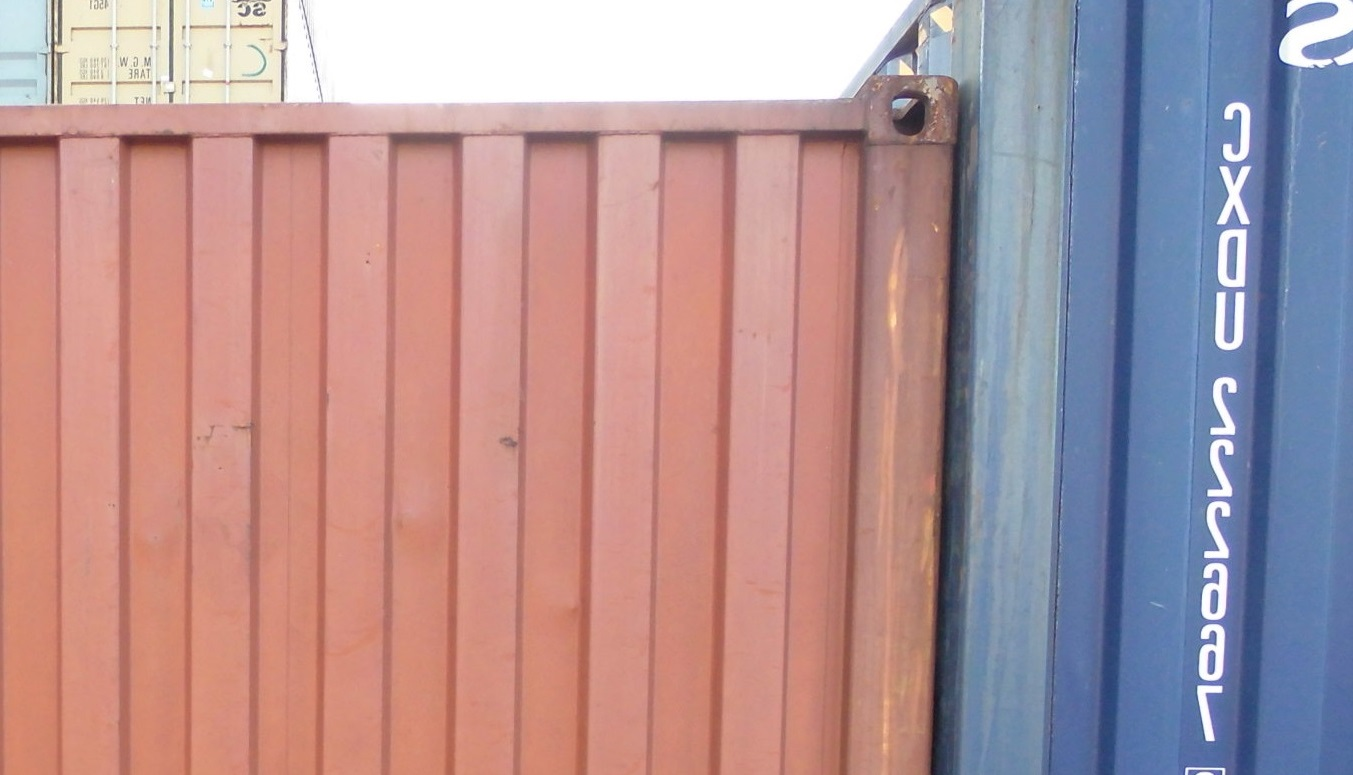container_no_door: (2, 99, 954, 766), (944, 1, 1352, 775)
